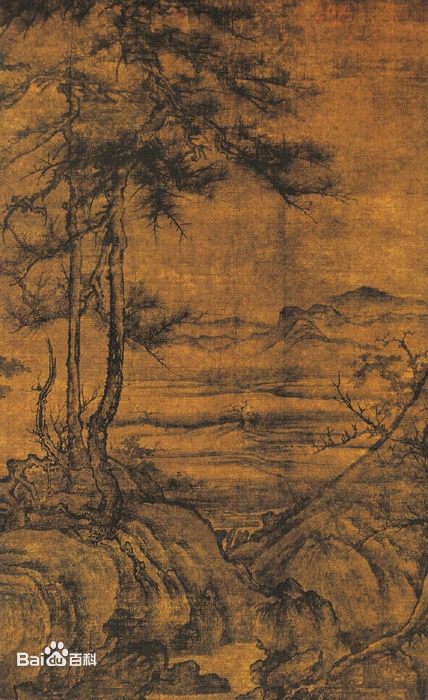range: (141, 273, 428, 362), (153, 368, 378, 470)
rock: (1, 454, 241, 640)
tree: (1, 3, 348, 530), (247, 333, 428, 560)
